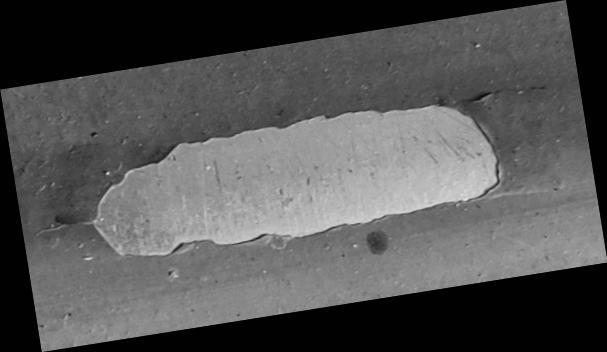paint-off: (0, 1, 607, 352)
